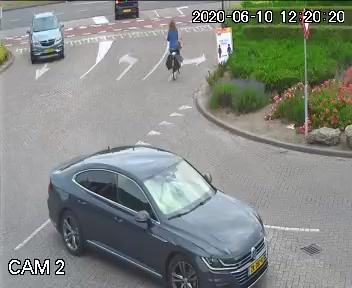car: (35, 129, 270, 288), (22, 8, 66, 71), (112, 0, 140, 22)
